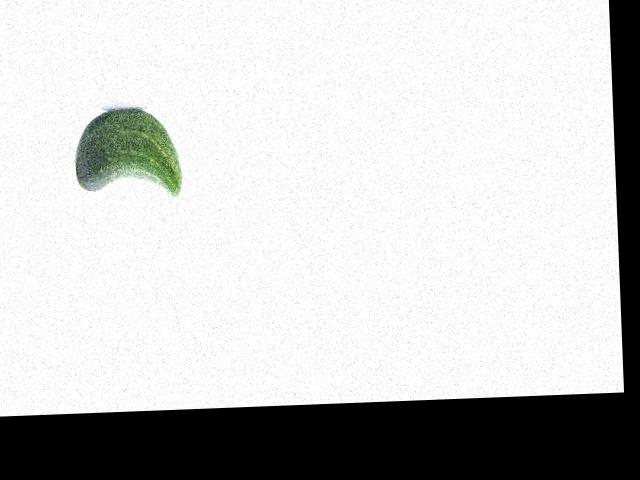cucumber: (73, 106, 183, 199)
